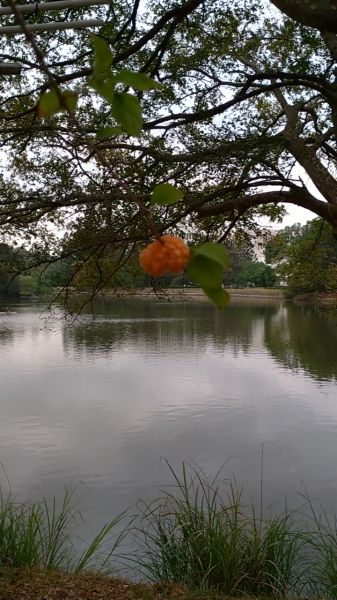eggs: (135, 229, 196, 284)
